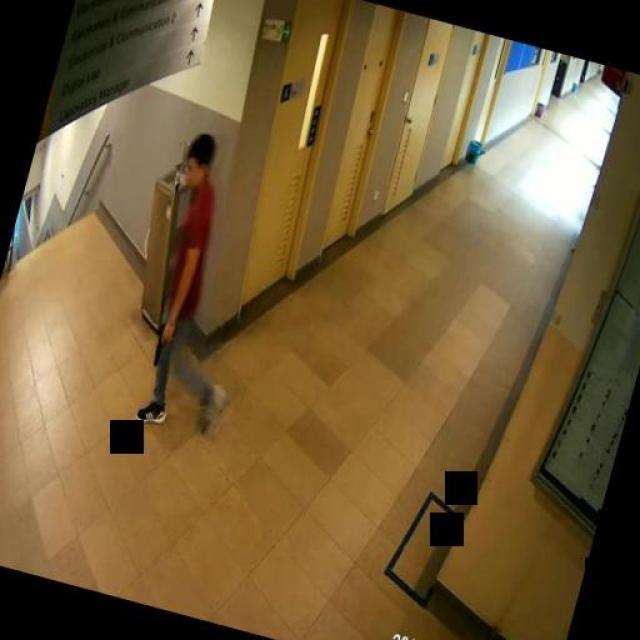gun: (148, 318, 174, 367)
